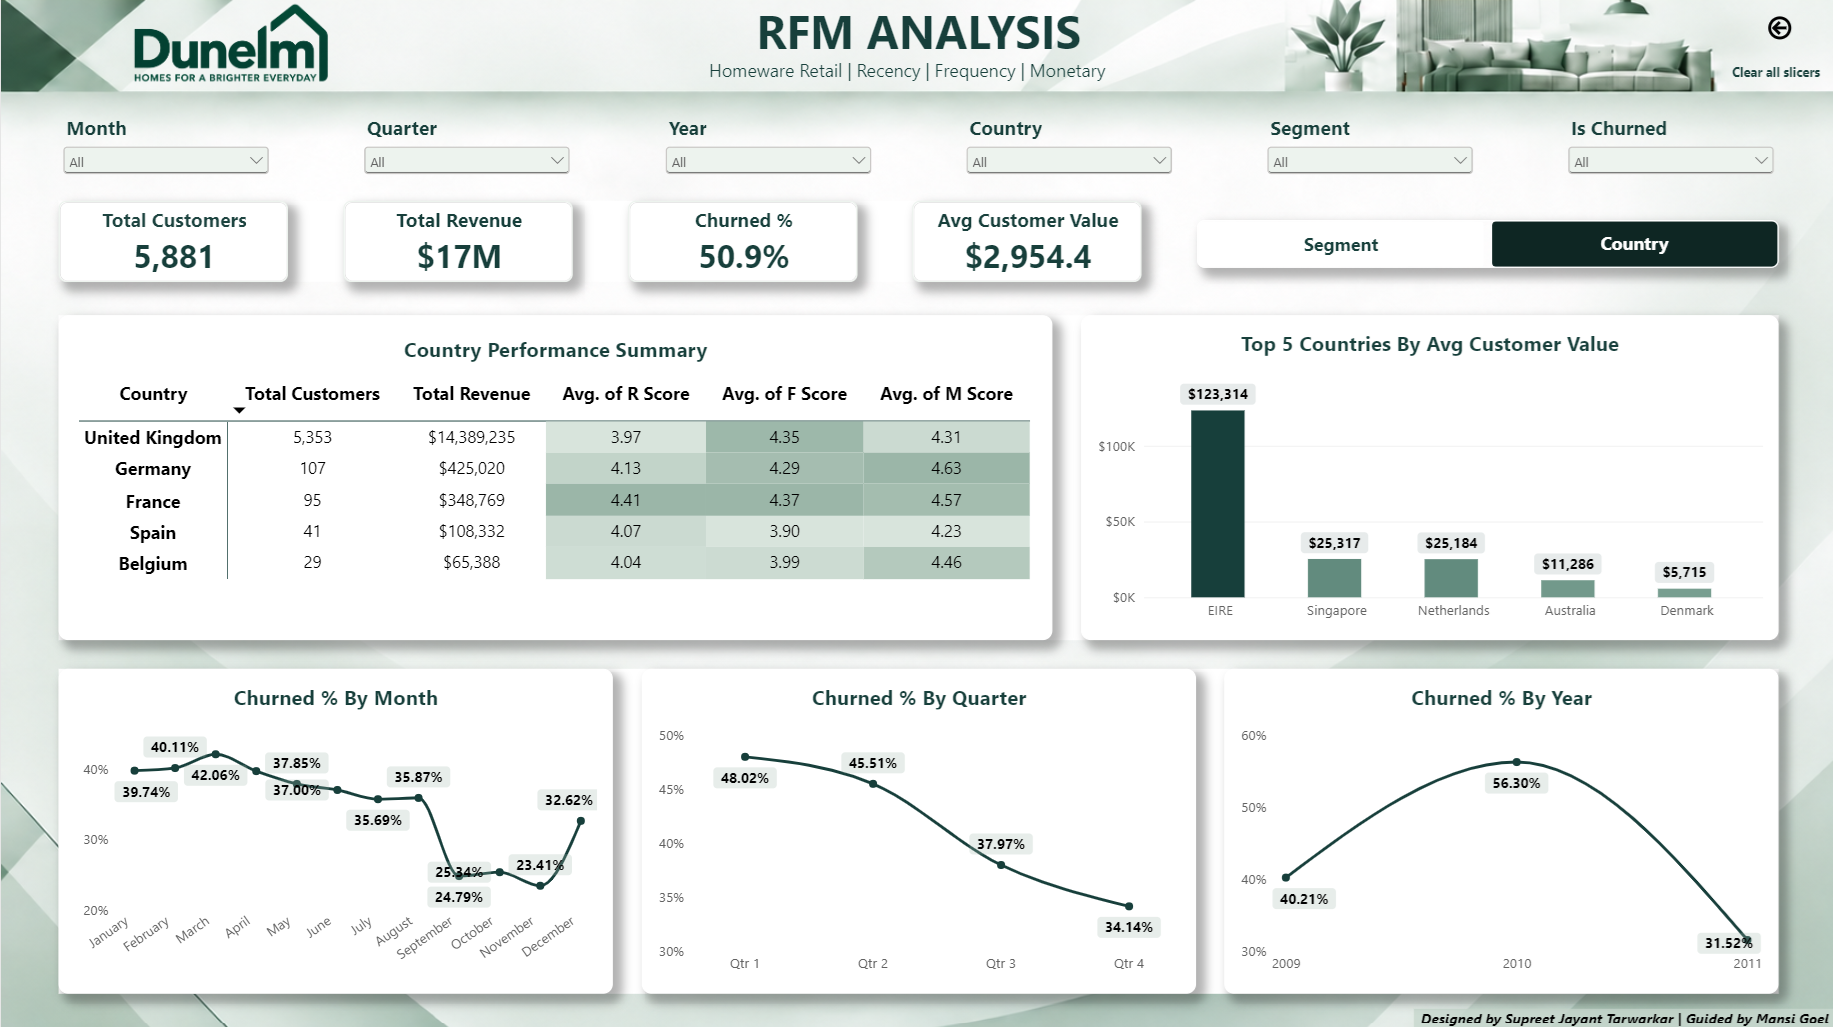

What the dashboard file says about the page in this screenshot:
{"tool":"powerbi","page":{"name":"RFM Analysis ","canvas":[1920,1080],"ordinal":2},"visuals":[{"type":"slicer","title":"Month","fields":{"Values":["Sheet1.invoicedate.Variation.Date Hierarchy.Month"]},"box":[60,120,225,65],"z":0,"group":"g4"},{"type":"cardVisual","title":"Total Customers","fields":{"Data":["Cal  Measures.Total Customers"]},"box":[60.4,210,240,85],"z":0,"group":"g3"},{"type":"clusteredColumnChart","title":"Avg Customer Value By Segment","fields":{"Category":["Sheet1.Segment"],"Y":["Cal  Measures.Avg Customer Value"]},"box":[1130,330,730,340],"z":0,"group":"g2"},{"type":"lineChart","title":"Churned % By Year","fields":{"Category":["Sheet1.invoicedate.Variation.Date Hierarchy.Year"],"Y":["Cal  Measures.Churned %"]},"box":[1280,700,580,340],"z":0,"group":"g1"},{"type":"shape","box":[1478.3,1055.8,441.7,24.2],"z":0},{"type":"slicer","title":"Quarter","fields":{"Values":["Sheet1.invoicedate.Variation.Date Hierarchy.Quarter"]},"box":[375,120,225,65],"z":1000,"group":"g4"},{"type":"cardVisual","title":"Total Revenue","fields":{"Data":["Cal  Measures.Total Revenue"]},"box":[358.2,210,240,85],"z":1000,"group":"g3"},{"type":"pivotTable","title":"Segment Performance Summary","fields":{"Rows":["Sheet1.Segment"],"Values":["Cal  Measures.Total Customers","Cal  Measures.Total Revenue","Avg(Sheet1.R_Score)","Avg(Sheet1.F_Score)","Avg(Sheet1.M_Score)"]},"box":[60,330,1040,340],"z":1000,"group":"g2"},{"type":"lineChart","title":"Churned % By Quarter","fields":{"Category":["Sheet1.invoicedate.Variation.Date Hierarchy.Quarter"],"Y":["Cal  Measures.Churned %"]},"box":[670,700,580,340],"z":1000,"group":"g1"},{"type":"textbox","title":"Author","box":[1478.3,1055.8,441.7,24.2],"z":1000},{"type":"slicer","title":"Year","fields":{"Values":["Sheet1.invoicedate.Variation.Date Hierarchy.Year"]},"box":[690,120,225,65],"z":2000,"group":"g4"},{"type":"cardVisual","title":"Churned %","fields":{"Data":["Cal  Measures.Churned %"]},"box":[656.1,210,240,85],"z":2000,"group":"g3"},{"type":"group","id":"g1","title":"Line Chart","box":[60,700,1800,340],"z":2000},{"type":"lineChart","title":"Churned % By Month","fields":{"Category":["Sheet1.invoicedate.Variation.Date Hierarchy.Month"],"Y":["Cal  Measures.Churned %"]},"box":[60,700,580,340],"z":2000,"group":"g1"},{"type":"slicer","title":"Country","fields":{"Values":["Sheet1.country"]},"box":[1005,120,225,65],"z":3000,"group":"g4"},{"type":"cardVisual","title":"Avg Customer Value","fields":{"Data":["Cal  Measures.Avg Customer Value"]},"box":[953.9,210,240,85],"z":3000,"group":"g3"},{"type":"group","id":"g2","title":"Segment","box":[60,330,1800,340],"z":3000},{"type":"slicer","title":"Segment","fields":{"Values":["Sheet1.Segment"]},"box":[1320,120,225,65],"z":4000,"group":"g4"},{"type":"slicer","title":"Is Churned","fields":{"Values":["Sheet1.IsChurned"]},"box":[1635,120,225,65],"z":5000,"group":"g4"},{"type":"group","id":"g3","title":"KPI'S","box":[60.4,210,1133.5,85],"z":5000},{"type":"group","id":"g4","title":"Slicer","box":[60,120,1800,65],"z":6000},{"type":"bookmarkNavigator","box":[1251.7,230,609.3,50.3],"z":7000},{"type":"textbox","title":"Sub Title","box":[741.2,60.6,437.7,35],"z":8000},{"type":"textbox","title":"Title","box":[708.9,0,502.3,80],"z":9000},{"type":"image","title":"Logo","box":[82.1,0,324.5,95.6],"z":10000},{"type":"actionButton","title":"Back Botton","box":[1830.1,9.4,61.9,40.4],"z":11000},{"type":"actionButton","title":"Clear Slicer Button","box":[1795,54,125,40],"z":12000}]}

Visuals, with their boxes in screenshot pixels (x1, y1, x2, y2), scaled from the page's 1920x1080 canvas onto the 1833x1027 screenshot:
"Month" slicer: 57/114/272/176
"Total Customers" cardVisual: 58/200/287/281
"Avg Customer Value By Segment" clusteredColumnChart: 1079/314/1776/637
"Churned % By Year" lineChart: 1222/666/1776/989
shape: 1411/1004/1832/1026
"Quarter" slicer: 358/114/573/176
"Total Revenue" cardVisual: 342/200/571/281
"Segment Performance Summary" pivotTable: 57/314/1050/637
"Churned % By Quarter" lineChart: 640/666/1193/989
"Author" textbox: 1411/1004/1832/1026
"Year" slicer: 659/114/874/176
"Churned %" cardVisual: 626/200/855/281
"Line Chart" group: 57/666/1776/989
"Churned % By Month" lineChart: 57/666/611/989
"Country" slicer: 959/114/1174/176
"Avg Customer Value" cardVisual: 911/200/1140/281
"Segment" group: 57/314/1776/637
"Segment" slicer: 1260/114/1475/176
"Is Churned" slicer: 1561/114/1776/176
"KPI'S" group: 58/200/1140/281
"Slicer" group: 57/114/1776/176
bookmarkNavigator: 1195/219/1777/267
"Sub Title" textbox: 708/58/1125/91
"Title" textbox: 677/0/1156/76
"Logo" image: 78/0/388/91
"Back Botton" actionButton: 1747/9/1806/47
"Clear Slicer Button" actionButton: 1714/51/1832/89
